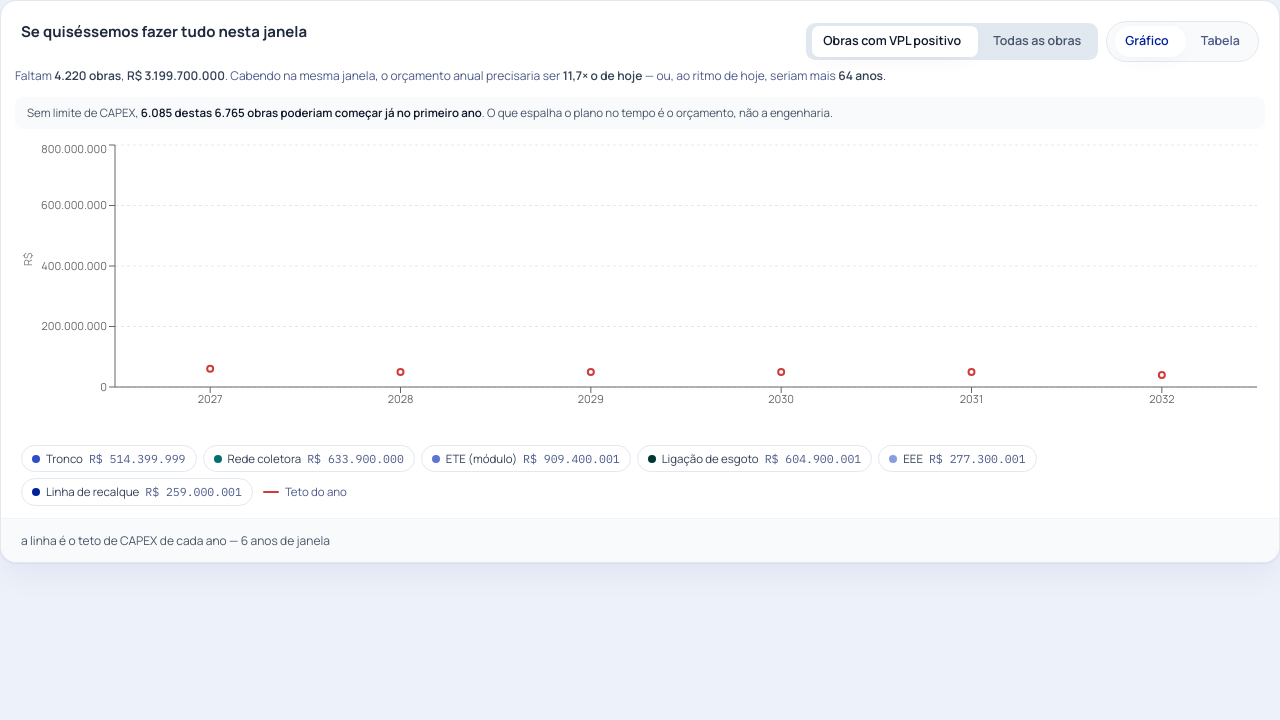
o cenário anual de CAPEX › a barra mostra SÓ o que ficou fora — o plano é referência, não fatia
The image size is (1280, 720).
Click the tab "Tabela" at [1220, 41], box x1=1187 y1=26 x2=1254 y2=57
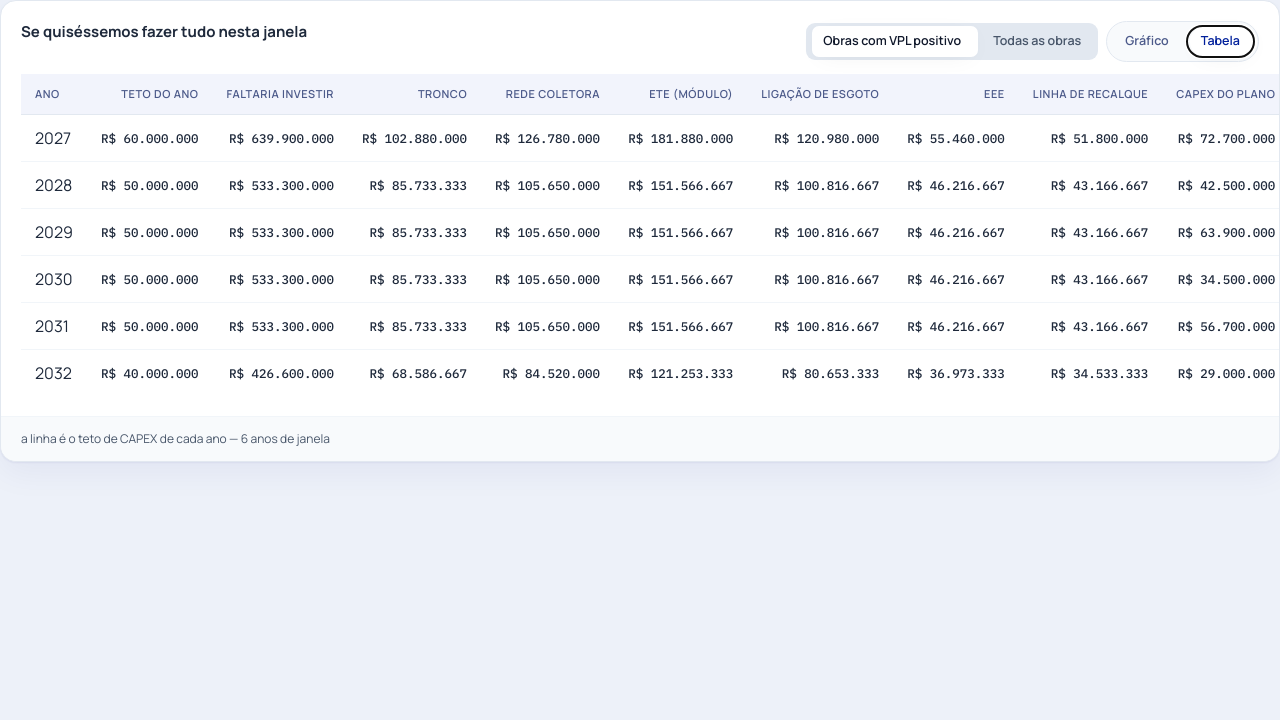
Check: the column heading "Faltaria investir" is shown, box x1=212 y1=74 x2=348 y2=115
